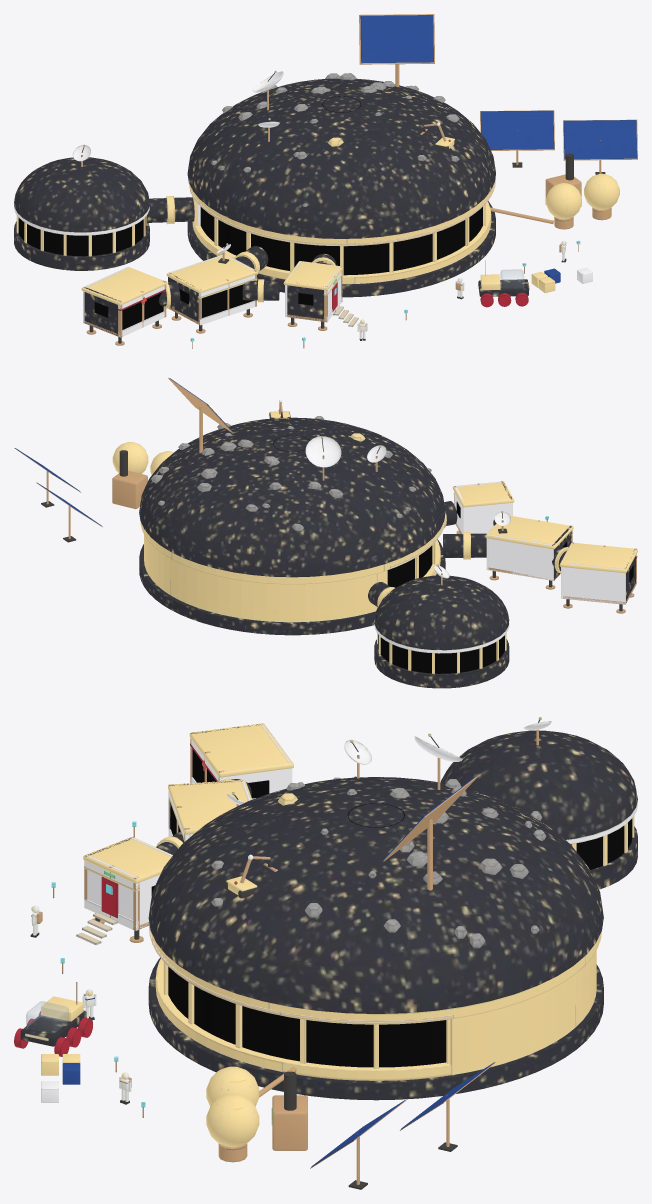
The model's file is design_4.glb.
3 renders of one model, top to bottom at view 1: azimuth 30°, elevation 25°; view 2: azimuth 150°, elevation 25°; view 3: azimuth 270°, elevation 25°, orthographic. The views are drawn at different scales.
Parts seen in each view (by area): view 1: 4_RICH_BAKED; view 2: 4_RICH_BAKED; view 3: 4_RICH_BAKED.
Boxes of the visible parts, <box> form: 4_RICH_BAKED: <box>14,14,637,348</box>; 4_RICH_BAKED: <box>14,377,637,688</box>; 4_RICH_BAKED: <box>14,717,637,1189</box>.
Bounding box in the file's own units: 55.7 × 16.32 × 34.81.
Materials: 2 (1 with a texture image).
